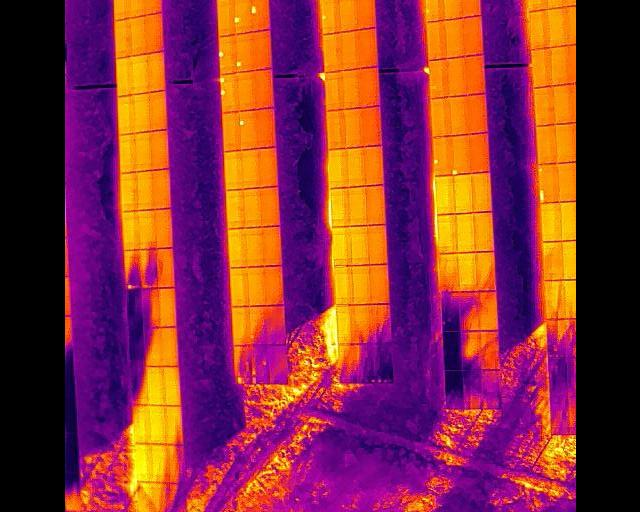Cell: (238, 110, 256, 150), (429, 58, 447, 98), (433, 137, 451, 176), (250, 305, 267, 345), (451, 136, 468, 176), (320, 0, 338, 34), (236, 32, 251, 72), (233, 0, 250, 35), (250, 0, 268, 32)
Cell-Multi: (538, 165, 558, 203), (220, 73, 237, 113), (219, 35, 236, 75), (233, 345, 250, 383), (251, 345, 266, 383), (424, 0, 443, 23)
No-Anomaly: (530, 47, 552, 87), (547, 8, 570, 46), (539, 203, 561, 242), (532, 85, 553, 125), (552, 86, 574, 124), (431, 98, 452, 137), (369, 265, 389, 305), (551, 46, 571, 86), (472, 212, 492, 252), (469, 133, 489, 173), (251, 29, 270, 71), (555, 125, 576, 163), (535, 125, 555, 164), (363, 147, 383, 186), (367, 226, 387, 265), (528, 9, 548, 48), (471, 173, 491, 212), (366, 185, 385, 225), (465, 55, 484, 95), (362, 108, 381, 147), (357, 29, 376, 68), (330, 188, 349, 227), (228, 267, 247, 306), (462, 17, 481, 56), (446, 57, 465, 96), (437, 213, 456, 252), (237, 71, 255, 112), (541, 242, 560, 280), (325, 111, 344, 149), (351, 265, 369, 305), (346, 147, 364, 187), (333, 265, 351, 305), (241, 188, 259, 228), (224, 150, 242, 190), (149, 443, 167, 483), (455, 213, 473, 253), (344, 108, 362, 147), (342, 70, 360, 109), (333, 226, 351, 265), (322, 33, 340, 72), (244, 227, 262, 266), (152, 170, 170, 209), (145, 15, 163, 54), (148, 92, 166, 131), (130, 405, 148, 444), (119, 172, 137, 211), (439, 252, 457, 291), (258, 147, 275, 188), (254, 69, 271, 110), (445, 17, 462, 58), (558, 163, 576, 201), (468, 95, 486, 133), (341, 30, 358, 70), (329, 148, 346, 188), (264, 266, 281, 306), (262, 226, 279, 266), (255, 109, 272, 149), (221, 111, 238, 151), (151, 131, 168, 171), (451, 96, 468, 136), (360, 69, 377, 108), (335, 305, 352, 344), (324, 72, 341, 111), (247, 267, 264, 306), (225, 190, 242, 229), (231, 306, 248, 345), (155, 209, 172, 248), (157, 249, 174, 288), (163, 366, 180, 405), (146, 367, 163, 406), (130, 55, 147, 94), (428, 21, 445, 60), (137, 210, 154, 249), (117, 95, 134, 134), (458, 252, 475, 291), (436, 176, 453, 215), (242, 148, 258, 189), (228, 229, 245, 267), (147, 53, 164, 91), (148, 405, 165, 443), (454, 175, 471, 213), (351, 225, 367, 265), (161, 326, 177, 366), (134, 132, 150, 172), (560, 240, 576, 280), (349, 187, 365, 226), (260, 188, 276, 227), (159, 288, 175, 327), (133, 444, 149, 483), (118, 134, 134, 173), (115, 57, 131, 95), (115, 18, 130, 58), (560, 202, 576, 239), (137, 171, 152, 210), (122, 211, 137, 250), (217, 0, 233, 36), (130, 17, 145, 55), (339, 0, 357, 31), (134, 93, 148, 132), (563, 280, 576, 319), (357, 0, 374, 29), (443, 0, 460, 21), (461, 0, 479, 18), (112, 0, 128, 18), (143, 0, 161, 15), (128, 0, 143, 17), (526, 0, 545, 13), (545, 0, 566, 8)
Shadowing: (372, 344, 392, 383), (370, 305, 390, 343), (478, 330, 497, 370), (461, 370, 480, 410), (440, 291, 459, 331), (544, 280, 563, 319), (548, 396, 567, 435), (459, 291, 478, 330), (266, 345, 285, 383), (545, 319, 564, 357), (266, 305, 284, 345), (548, 357, 566, 397), (475, 251, 493, 291), (460, 330, 478, 370), (352, 305, 370, 344), (477, 291, 495, 330), (442, 331, 460, 370), (355, 343, 372, 383), (480, 369, 497, 409), (444, 370, 461, 410), (123, 250, 140, 288), (140, 248, 156, 288), (130, 327, 146, 367), (338, 344, 354, 383), (128, 288, 144, 327), (165, 406, 181, 444), (168, 445, 184, 483), (144, 288, 159, 327), (146, 327, 161, 366), (130, 367, 145, 406), (149, 482, 167, 512), (135, 481, 149, 512)
